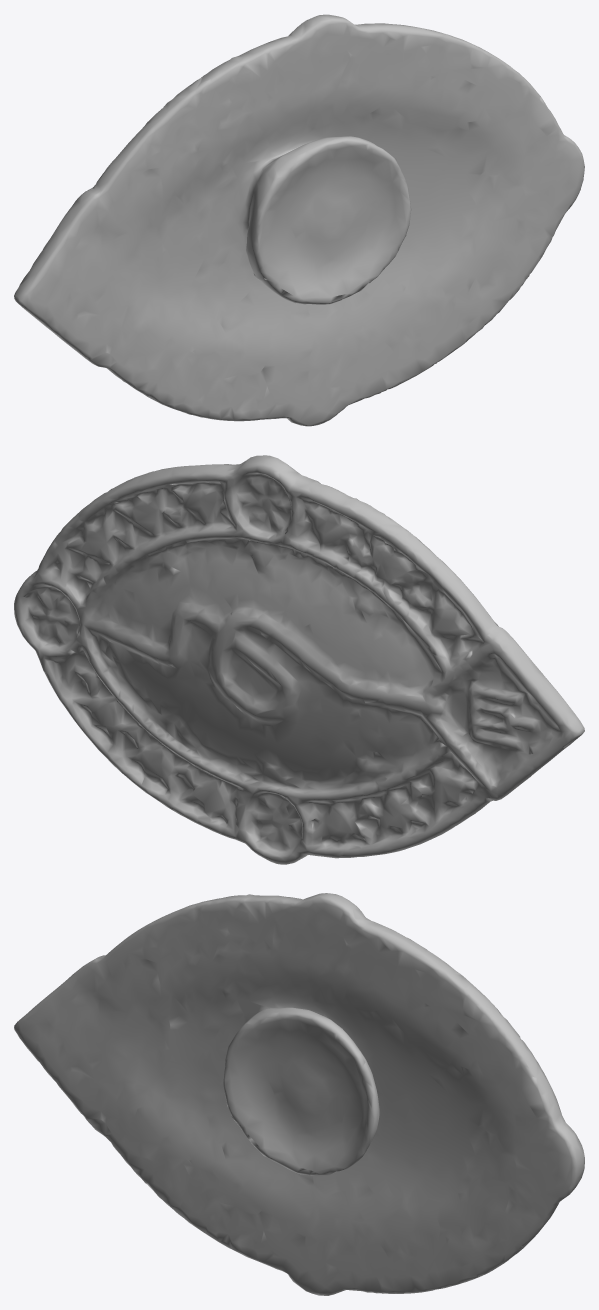
3 views of the same model, one above another, from view 1: azimuth 30°, elevation 25°; view 2: azimuth 150°, elevation 25°; view 3: azimuth 330°, elevation 25° (orthographic).
Parts seen in each view (by area): view 1: object; view 2: object; view 3: object.
Part boxes in pixels (left/top/right/bottom): object: left=14, top=14, right=584, bottom=426; object: left=14, top=455, right=584, bottom=864; object: left=14, top=893, right=584, bottom=1295.
Bounding box in the file's own units: 93.8 × 63.77 × 11.29.
1 material, 1 textured.
